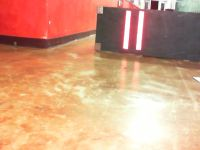switch: (123, 10, 132, 49), (136, 11, 144, 50)
